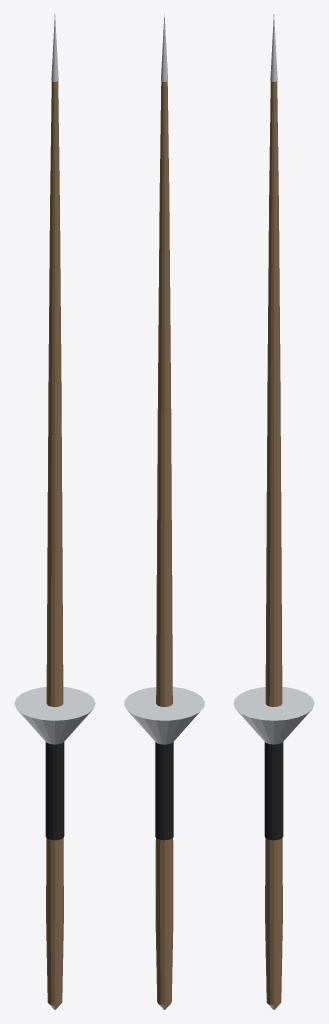
Rendered from SM_Lance_War01.fbx.
The picture shows the model from 3 angles, left to right: view 1: azimuth 90°, elevation 25°; view 2: azimuth 150°, elevation 25°; view 3: azimuth 270°, elevation 25°; orthographic projection.
Visible parts, largest first — view 1: SM_Lance_War01; view 2: SM_Lance_War01; view 3: SM_Lance_War01.
Boxes of the visible parts, bbox=[...] form: SM_Lance_War01: bbox=[14, 14, 95, 1009]; SM_Lance_War01: bbox=[124, 14, 204, 1009]; SM_Lance_War01: bbox=[233, 14, 314, 1009].
Bounding box in the file's own units: 0.2 × 0.2 × 2.7.
